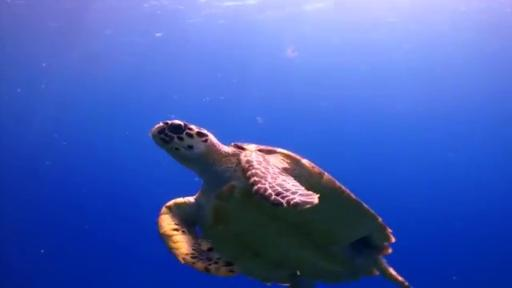Fish: (151, 120, 410, 287)
